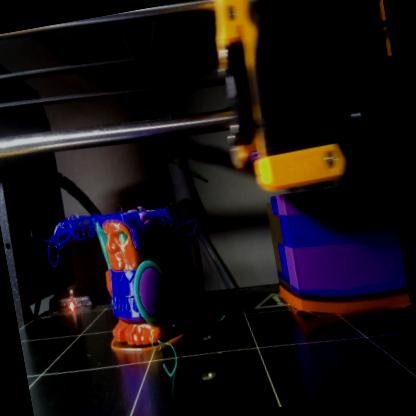fail: (41, 210, 103, 271), (157, 195, 201, 246), (150, 332, 186, 384)
